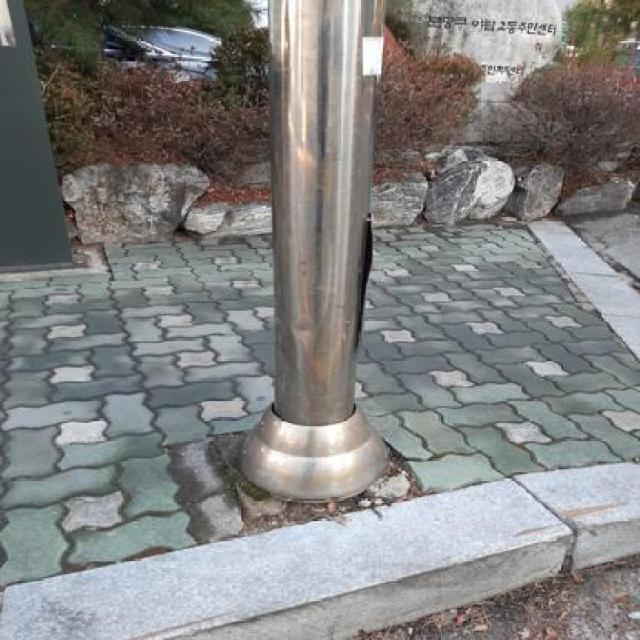pole: (221, 0, 403, 515)
